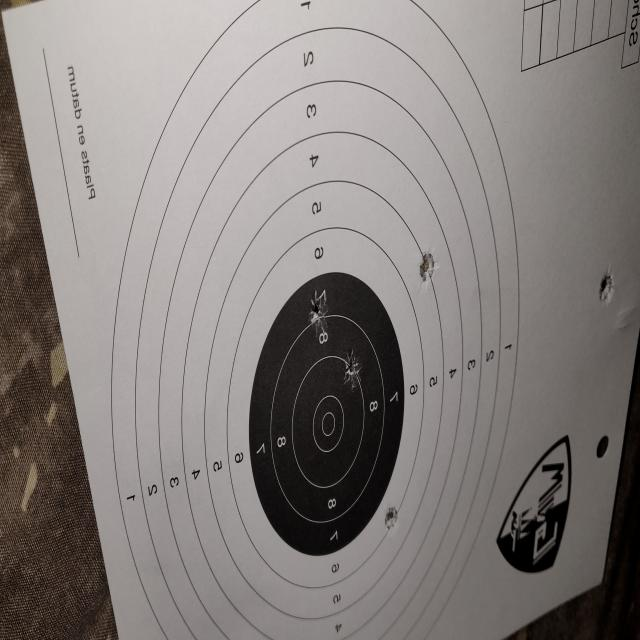0: (598, 264, 614, 307)
5: (419, 248, 436, 290)
7: (384, 506, 399, 532)
8: (308, 293, 327, 335)
9: (343, 348, 361, 390)
Target: (112, 0, 521, 638)
black_contour: (250, 272, 405, 558)
